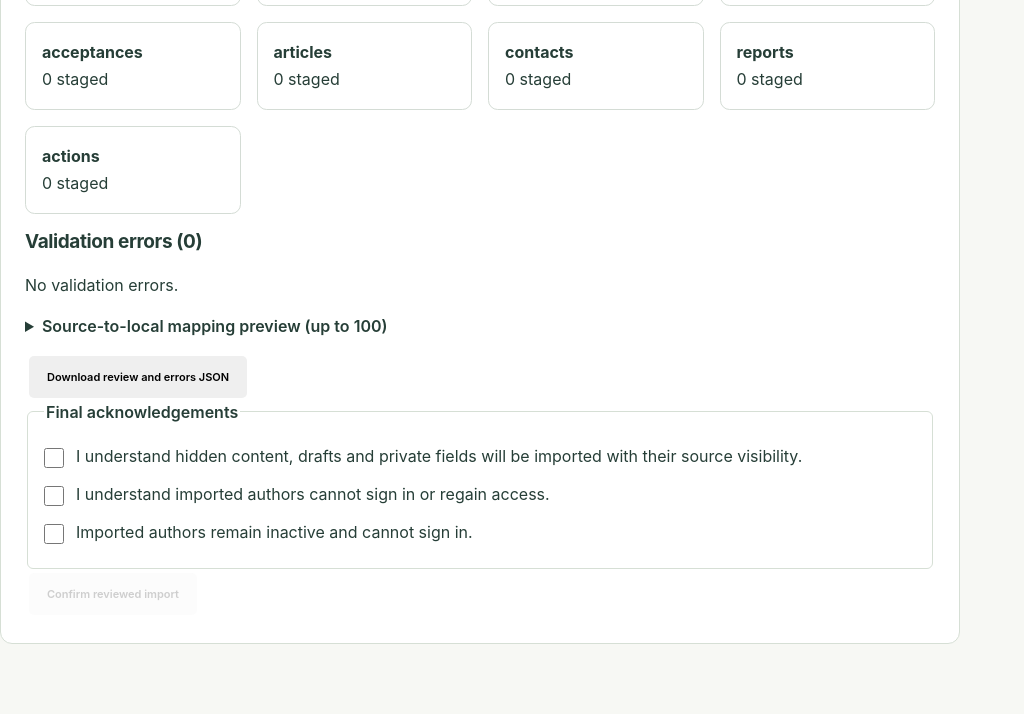
Test: pins the acknowledged review and requires new acknowledgement after a stale confirmation
(page scrolled)
Click the 1st checkbox at (54, 458), box [44, 448, 64, 468]
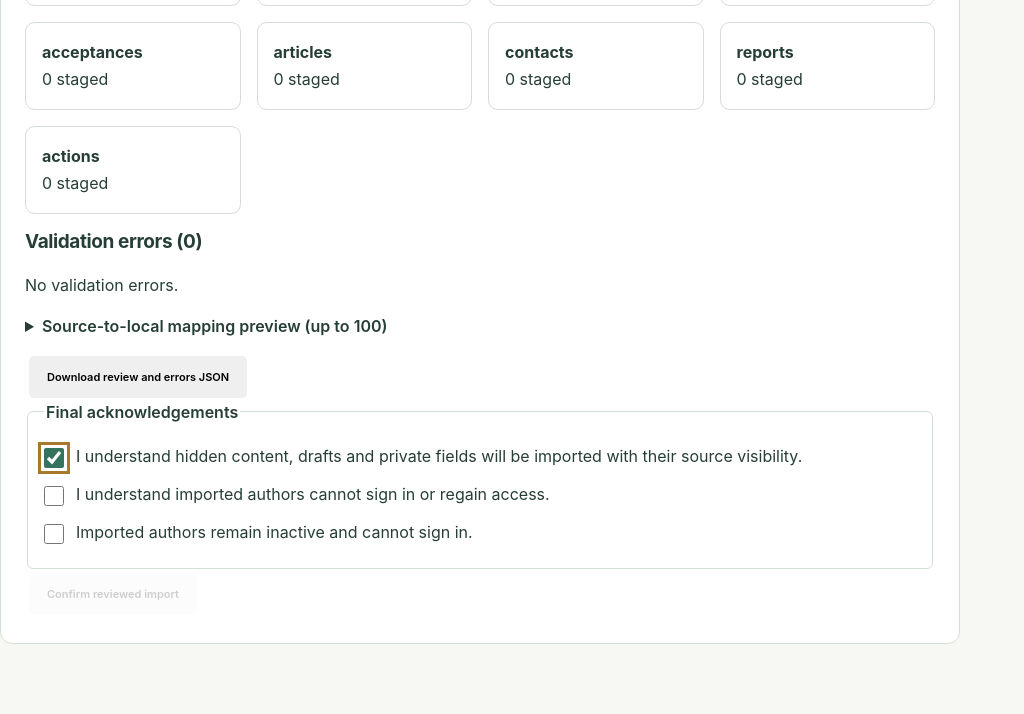
Click the 2nd checkbox at (54, 496), box [44, 486, 64, 506]
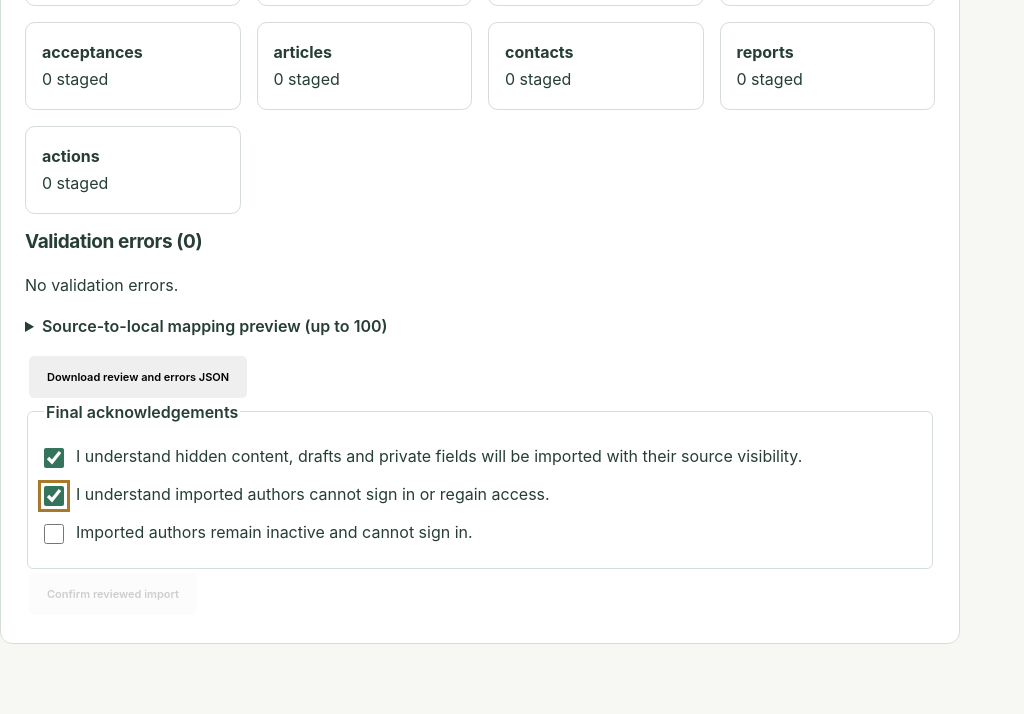
Click the checkbox labelled "Imported authors remain inactive and cannot sign in." at (54, 534), box [44, 524, 64, 544]
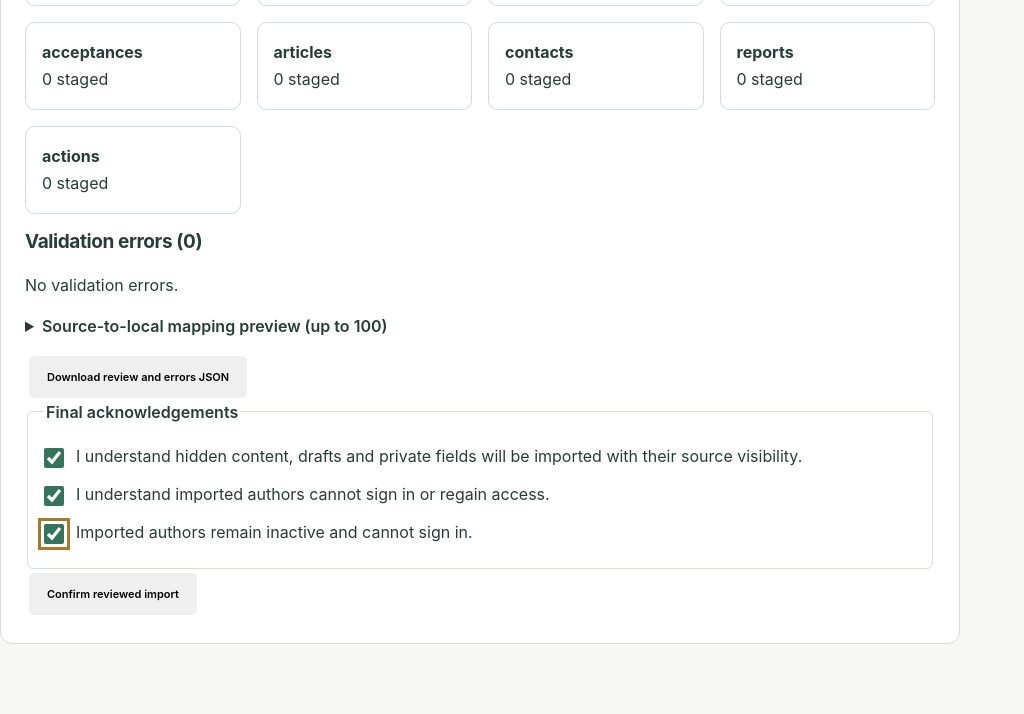
Click the button "Confirm reviewed import" at (113, 594), box [29, 572, 197, 614]
(page scrolled)
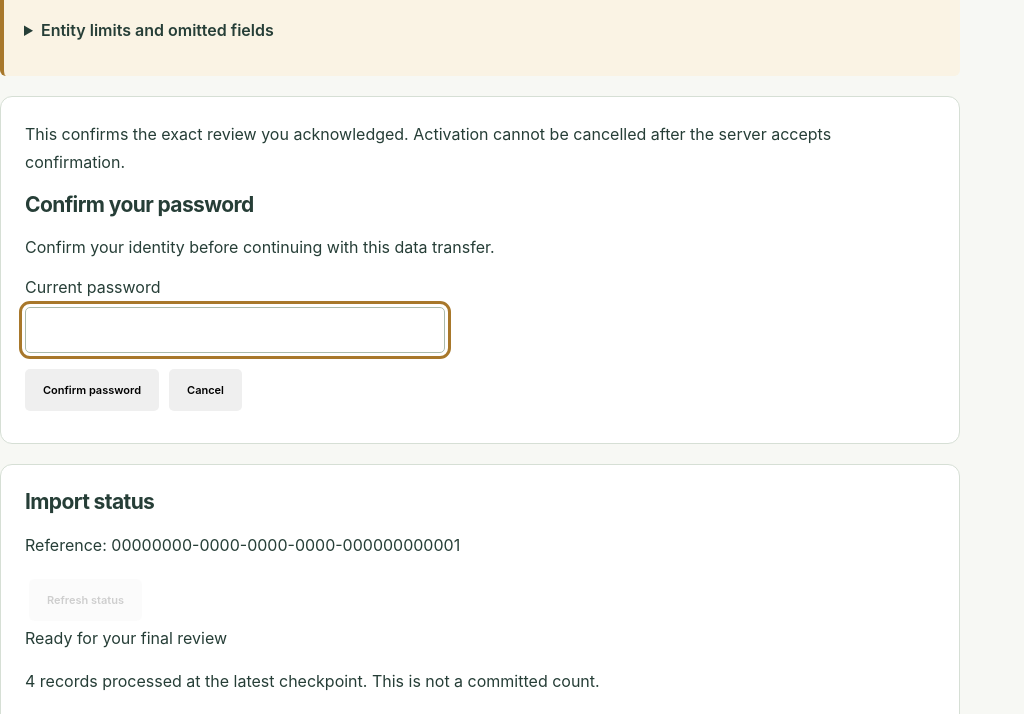
Type "private-password" into the password field labelled "Current password" at (235, 330), box [25, 308, 445, 354]
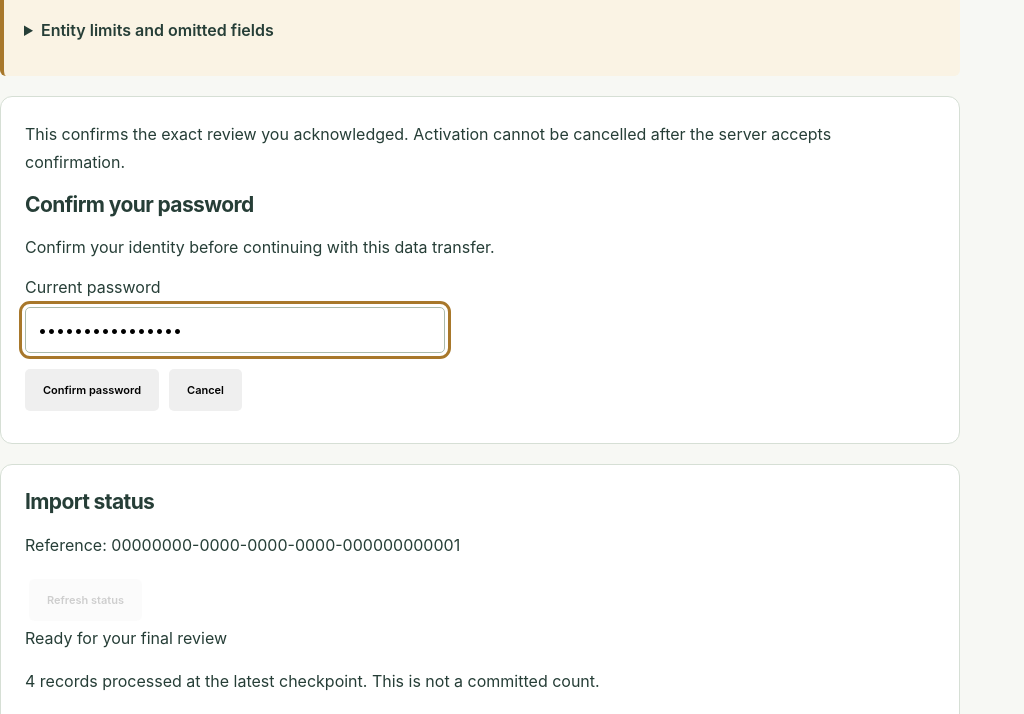
Click the button "Confirm password" at (92, 390), box [25, 370, 159, 412]
(page scrolled)
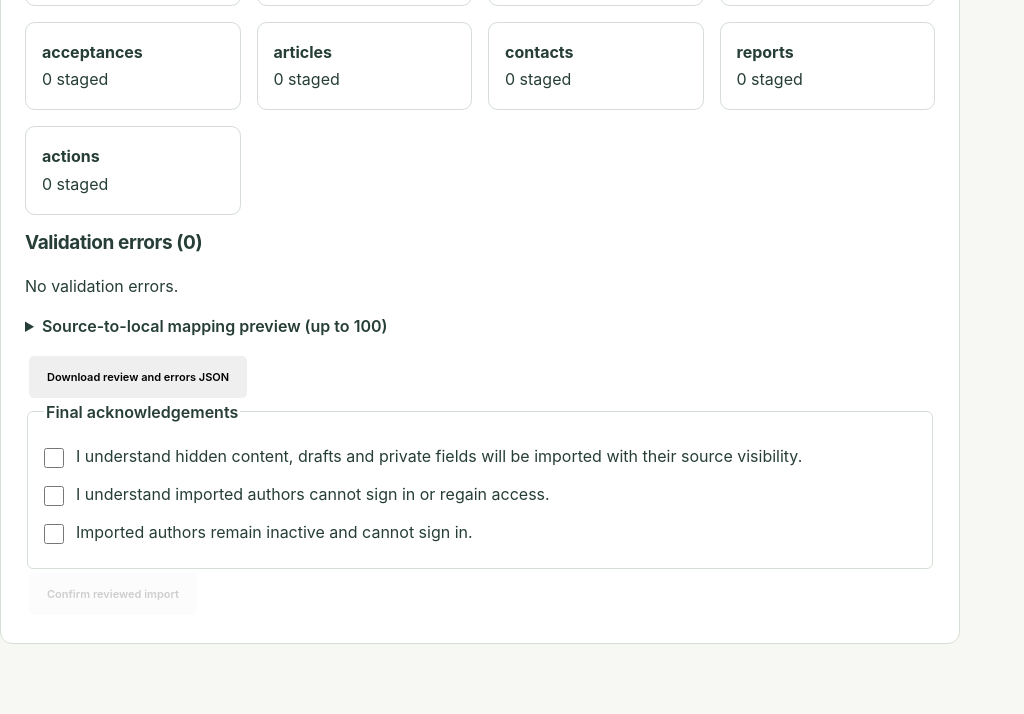
Check: the button "Confirm reviewed import" is disabled, box [29, 573, 197, 615]
Check: the label labelled "Current password" is gone
